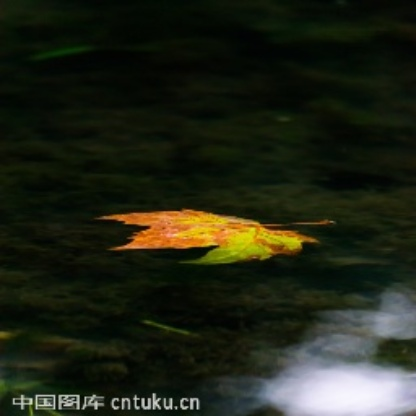leaf: (100, 205, 338, 272)
